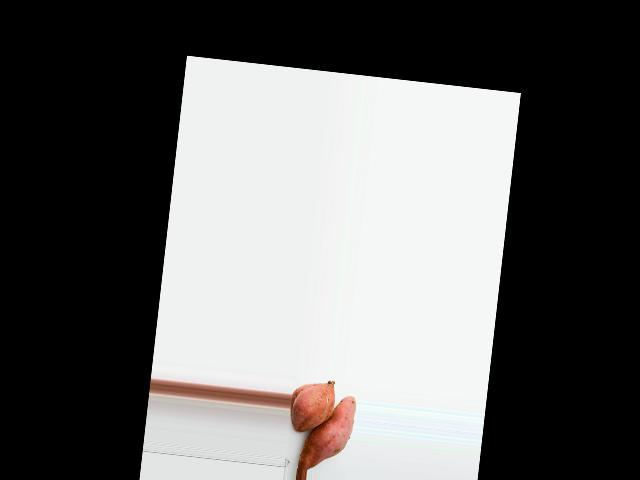sweet_potato: (293, 376, 333, 432)
